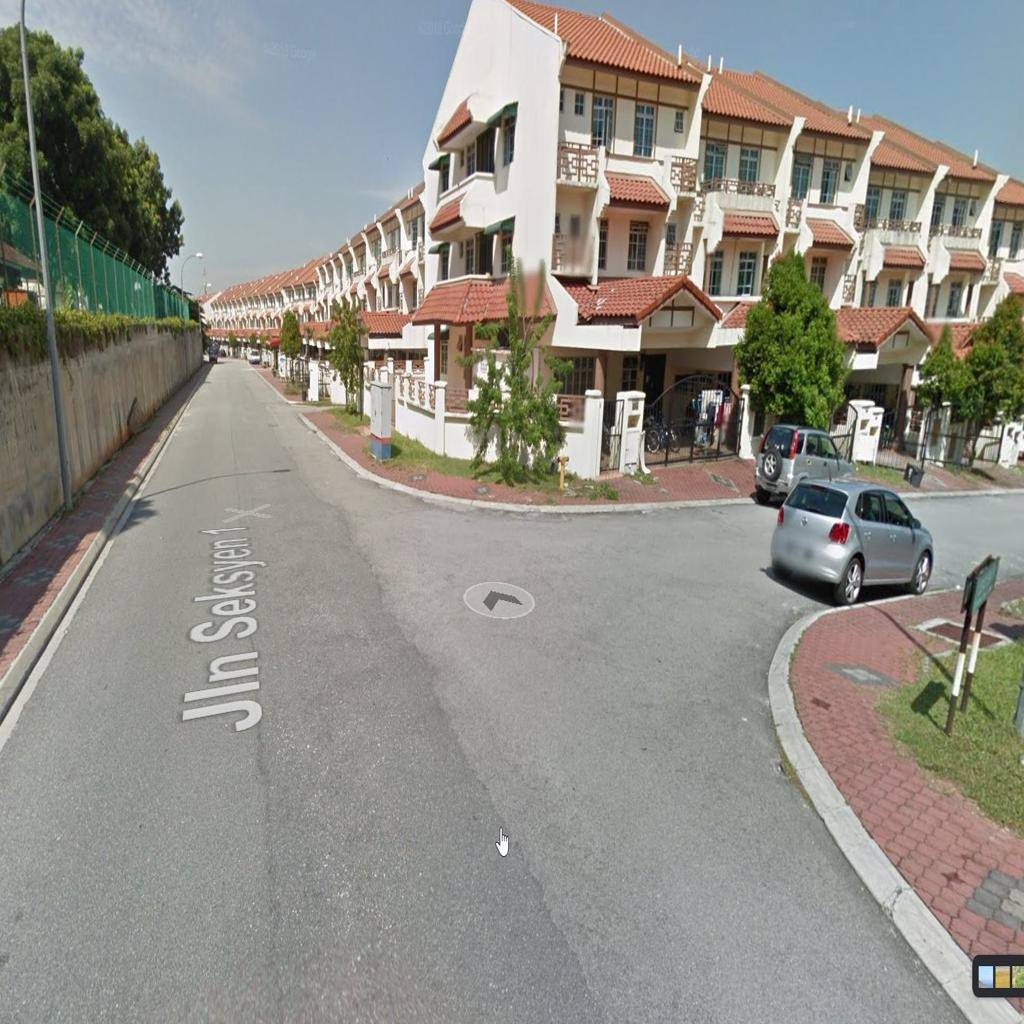Junction: (453, 460, 947, 737)
